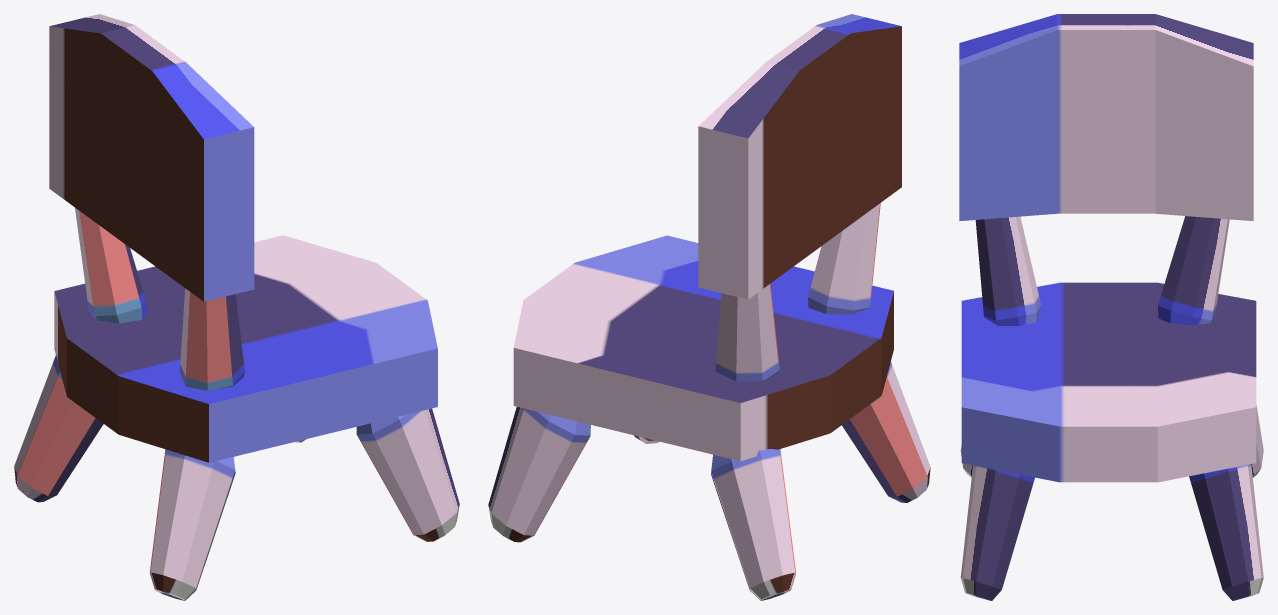
File: chair-blue.fbx
3 views of the same model, side by side, from view 1: azimuth 30°, elevation 25°; view 2: azimuth 150°, elevation 25°; view 3: azimuth 270°, elevation 25° (orthographic). The views are drawn at different scales.
Parts seen in each view (by area): view 1: chair.001; view 2: chair.001; view 3: chair.001.
Part boxes in pixels (x1=…): chair.001: x1=14, y1=14, x2=459, y2=600; chair.001: x1=488, y1=14, x2=930, y2=600; chair.001: x1=959, y1=14, x2=1263, y2=600.
Bounding box in the file's own units: 237 × 356 × 207.
